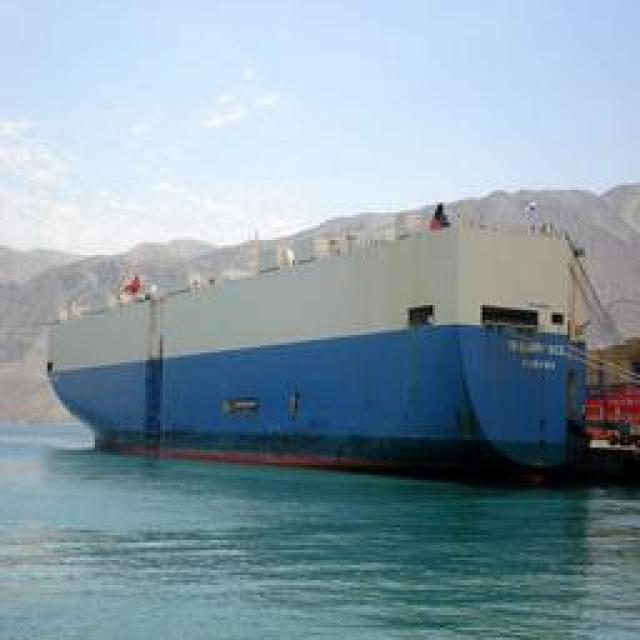CIV_Ship: (42, 194, 640, 472)
